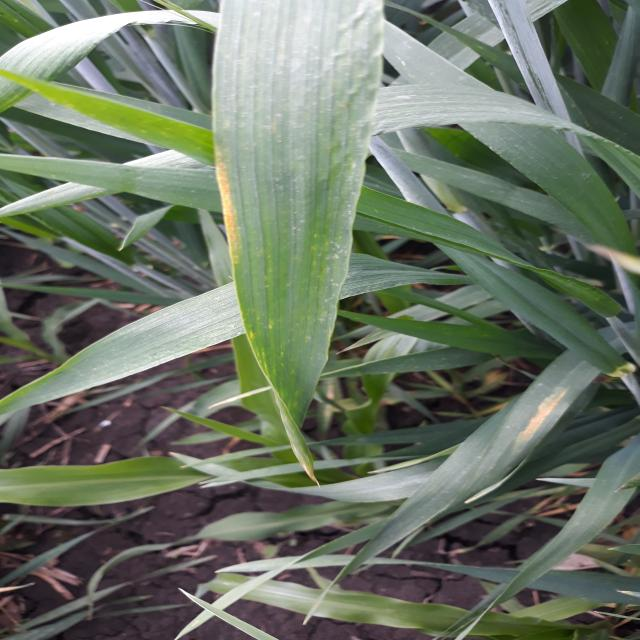yellow_rust: (177, 42, 383, 487), (510, 468, 617, 542), (507, 374, 591, 462), (422, 367, 533, 411)
